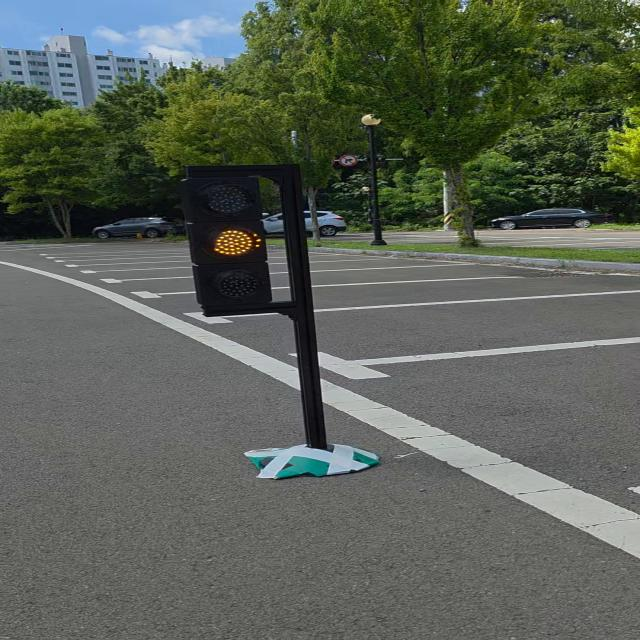yellow: (172, 162, 289, 316)
